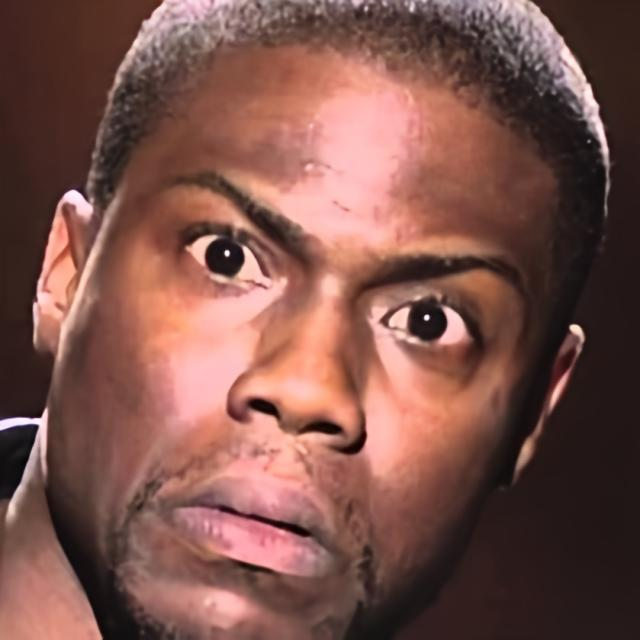fear: (39, 36, 566, 640)
